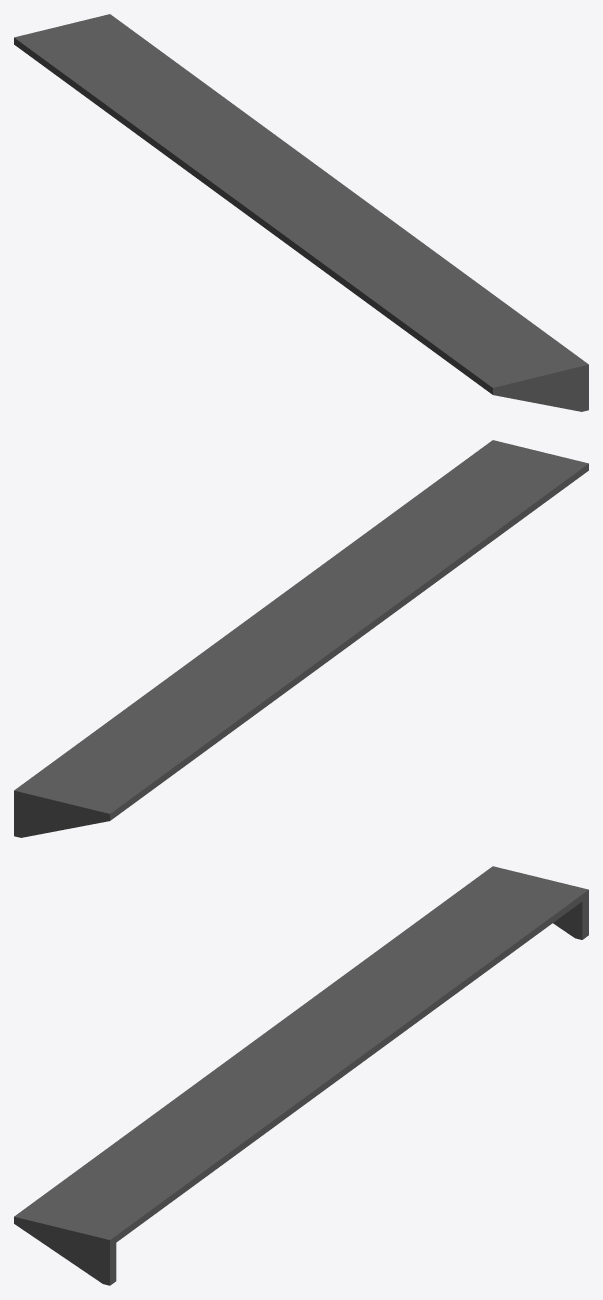
The model's file is Shelf.fbx.
3 views of the same model, one above another, from view 1: azimuth 30°, elevation 25°; view 2: azimuth 150°, elevation 25°; view 3: azimuth 330°, elevation 25° (orthographic).
Visible parts, largest first — view 1: Shelf; view 2: Shelf; view 3: Shelf.
Part boxes in pixels (<box>): Shelf: <box>14,14,588,411</box>; Shelf: <box>14,440,588,837</box>; Shelf: <box>14,866,588,1285</box>.
Size of the model in its own units: 29.85 by 13.55 by 258.
